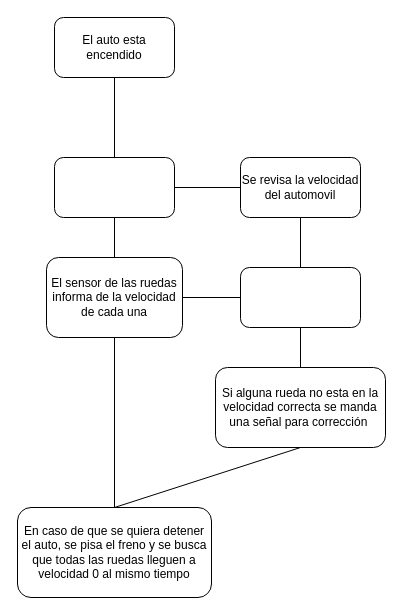
This 403x615 diagram has some shape labels left out. Here are the shapes that lost their labels. From the top down, the centre of each, then its label:
the point at 114,187: El auto esta en movimiento
the point at 300,297: Se revisa que esta velocidad concuerde con la del vehículo
